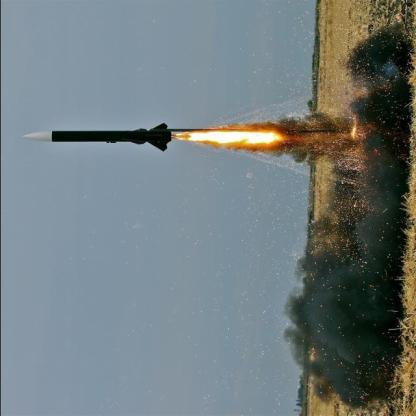MIL_TBM: (21, 122, 190, 150)
